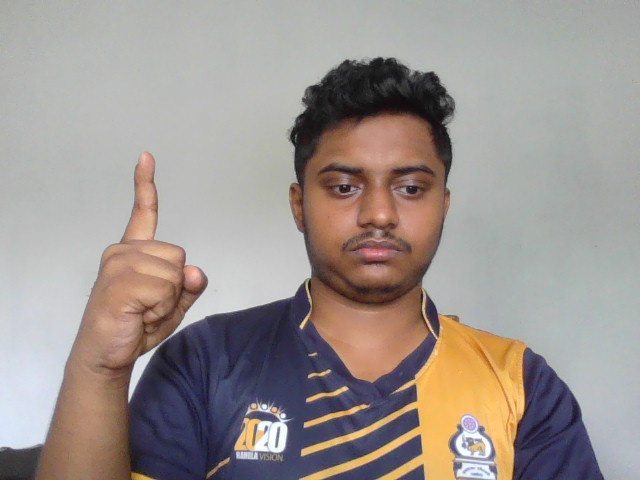Me: (72, 152, 208, 375)
